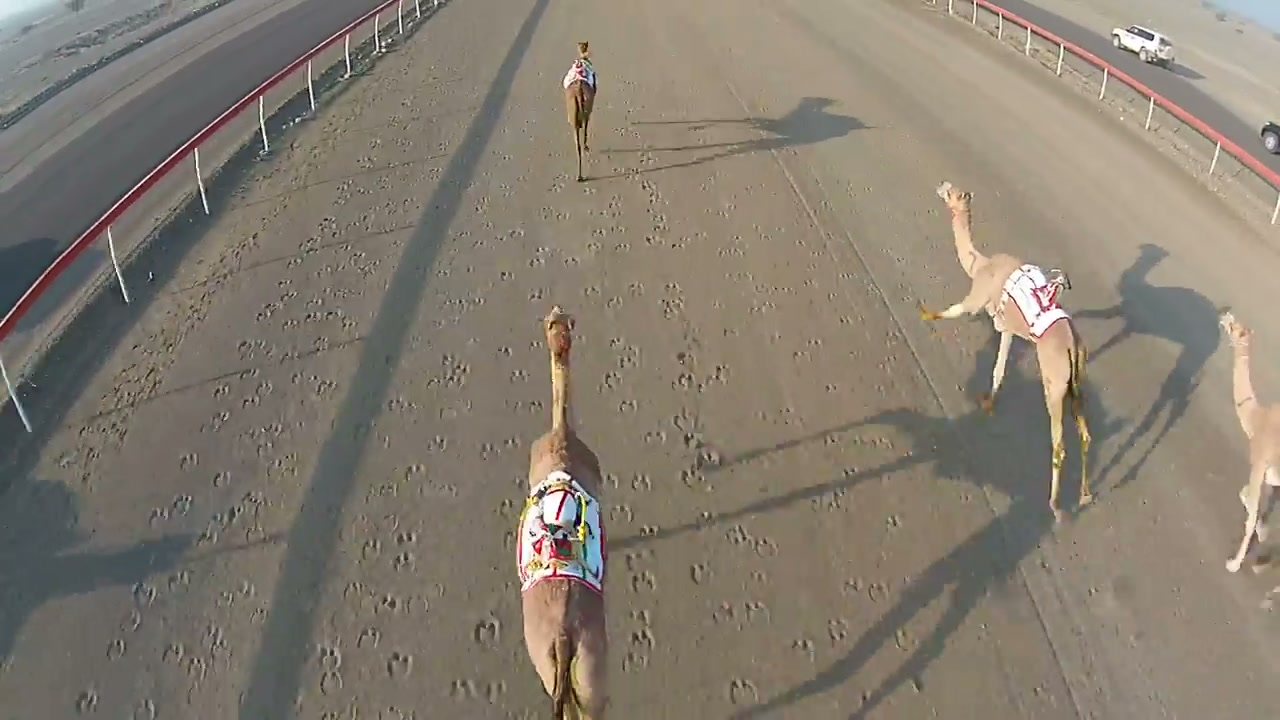animal_foot_print: (66, 173, 446, 719), (544, 133, 779, 713), (351, 267, 537, 719)
